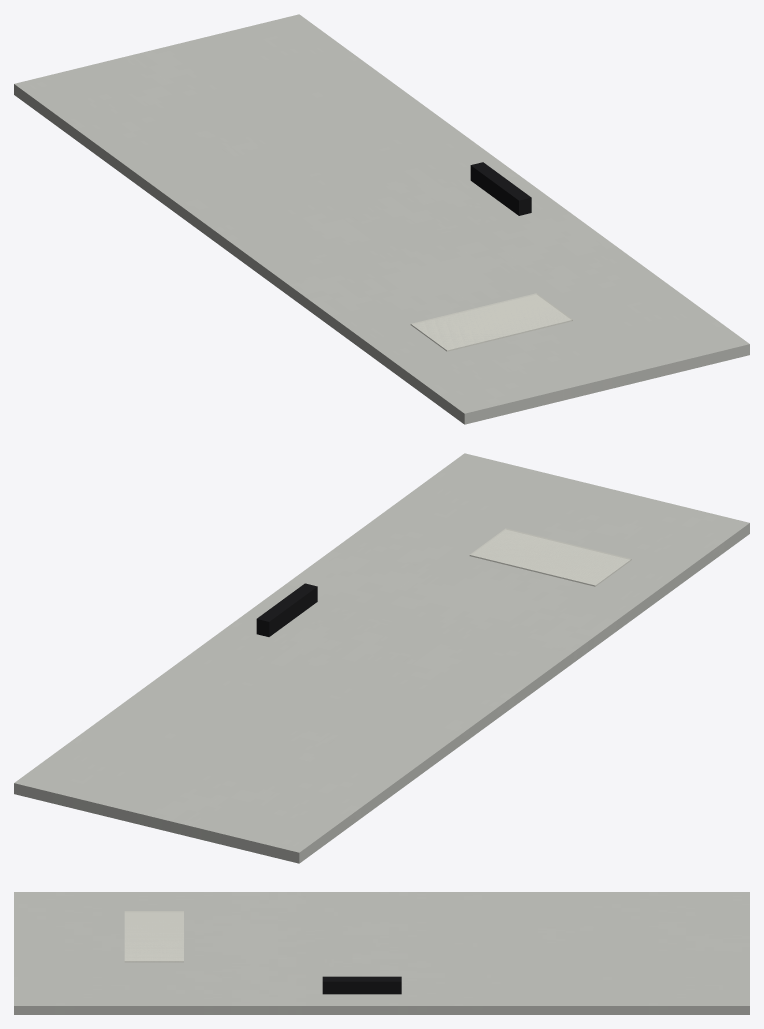
The model's file is cabinet_converter_door.glb.
3 renders of one model, top to bottom at view 1: azimuth 30°, elevation 25°; view 2: azimuth 150°, elevation 25°; view 3: azimuth 270°, elevation 25°, orthographic. The views are drawn at different scales.
Visible parts, largest first — view 1: cabinet_converter_door; view 2: cabinet_converter_door; view 3: cabinet_converter_door.
Boxes of the visible parts, x1,y1,x2,y2 form: cabinet_converter_door: (14,14,749,424); cabinet_converter_door: (14,453,749,863); cabinet_converter_door: (14,892,749,1014).
Bounding box in the file's own units: 0.68 × 0.06 × 1.86.
3 materials, 1 textured.
